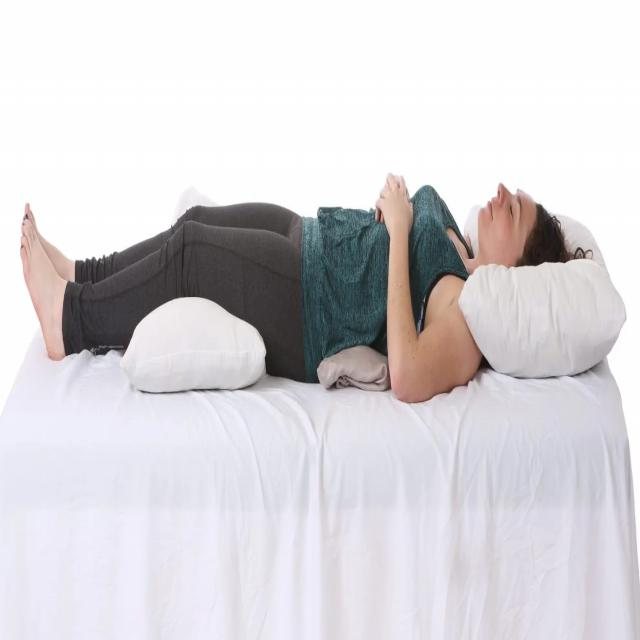people: (11, 145, 608, 474)
